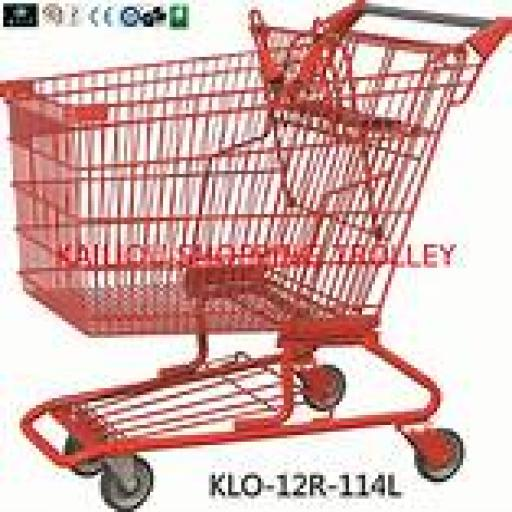shopping_cart: (8, 4, 512, 512)
